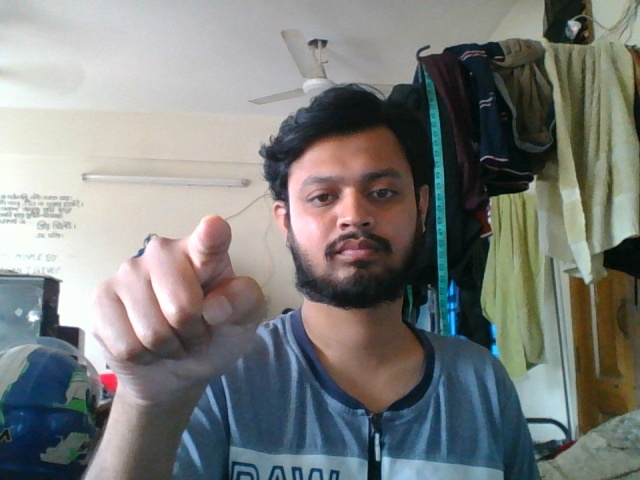tumi: (86, 205, 275, 442)
